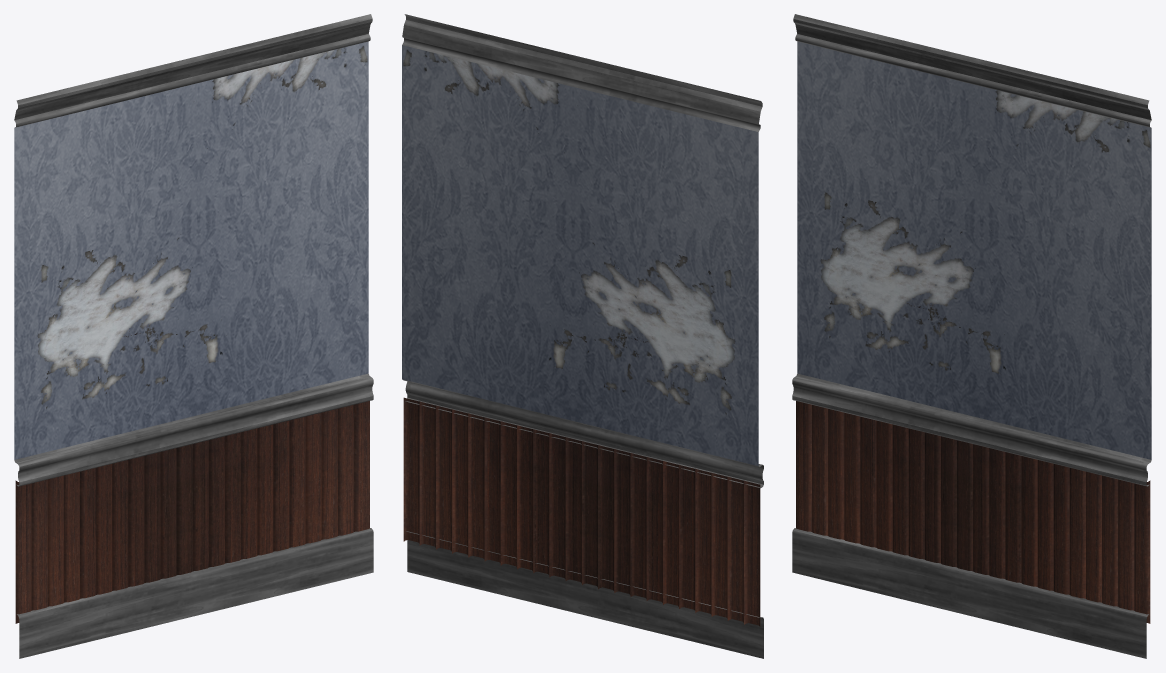
File: Mod_Wall_2x3_High.fbx
3 views of the same model, side by side, from view 1: azimuth 30°, elevation 25°; view 2: azimuth 150°, elevation 25°; view 3: azimuth 330°, elevation 25° (orthographic).
Parts seen in each view (by area): view 1: Mod_Wall_2x3_High; view 2: Mod_Wall_2x3_High; view 3: Mod_Wall_2x3_High.
Part boxes in pixels (box(x1,y1,x2,y2)): Mod_Wall_2x3_High: box(14, 14, 373, 658); Mod_Wall_2x3_High: box(402, 14, 763, 658); Mod_Wall_2x3_High: box(792, 14, 1151, 658).
Bounding box in the file's own units: 200 × 300 × 5.
1 material, 1 textured.
